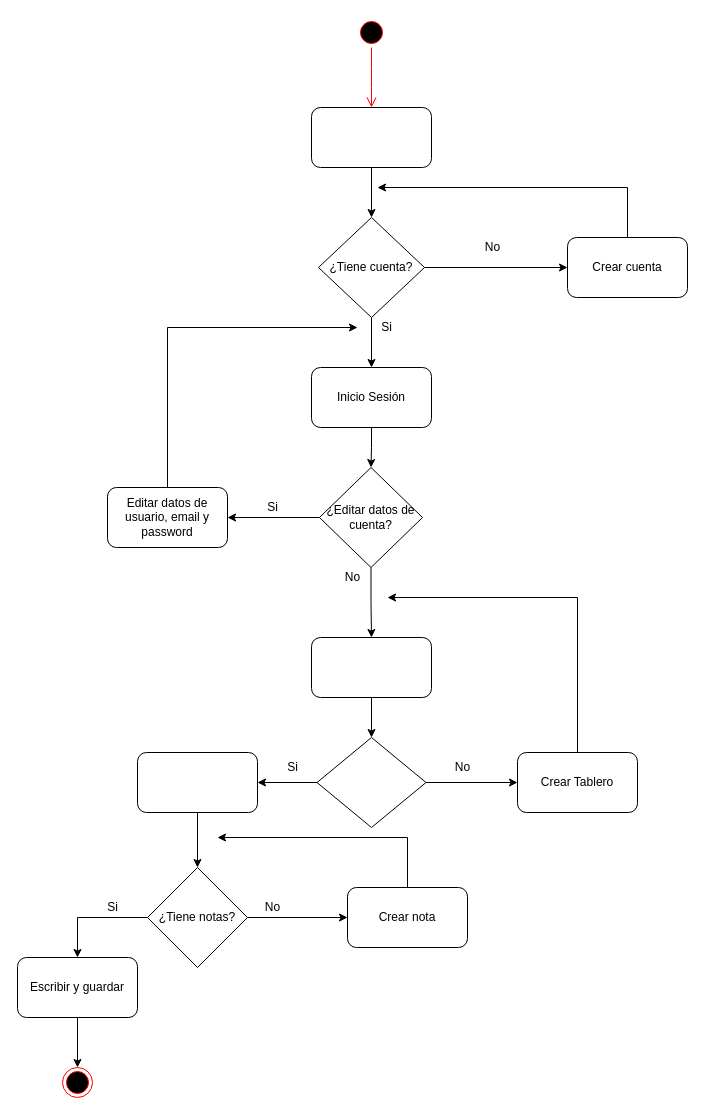
The diagram is 705 pixels wide and 1115 high, and some of its shapes have lost their labels. Each missing label, with the box of its shape:
Entra a página: (310, 106, 432, 168)
Visualización de notas: (136, 752, 258, 812)
Visualización de tableros: (310, 636, 432, 698)
¿Tiene tableros?: (316, 736, 426, 828)
